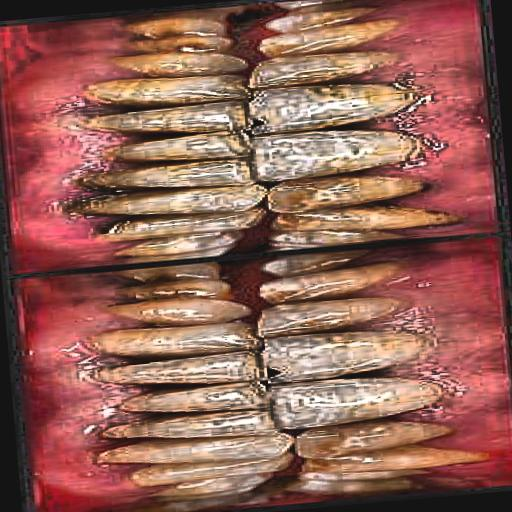Calculus: (235, 0, 512, 511), (19, 6, 282, 512)
